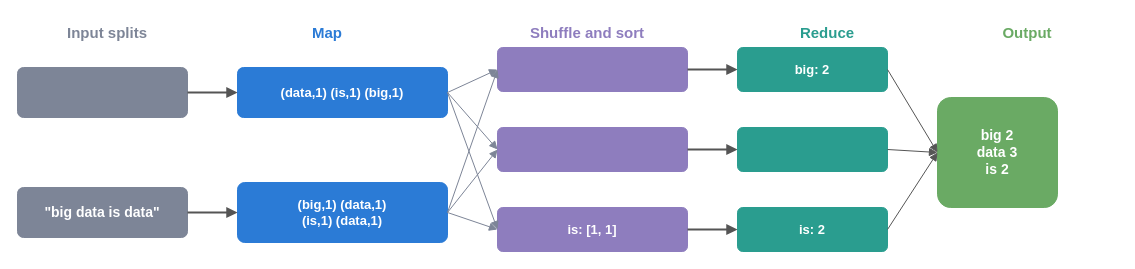
Image size: 1135x269. Some labels were removed from this diagram. Here are the shapes that lost their labels. From the top down, the box of each, then its label:
(496, 46, 688, 92): big: [1, 1]
(16, 66, 188, 118): "data is big"
(496, 126, 688, 172): data: [1, 1, 1]
(736, 126, 888, 172): data: 3
